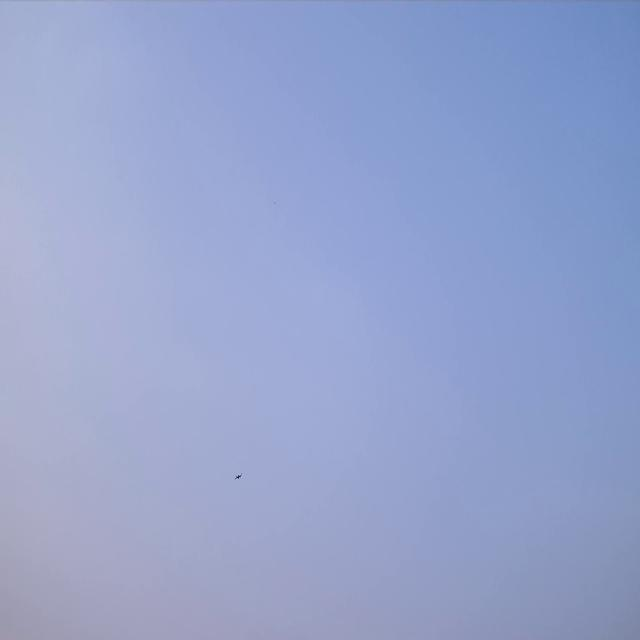UAV: (234, 472, 242, 481)
